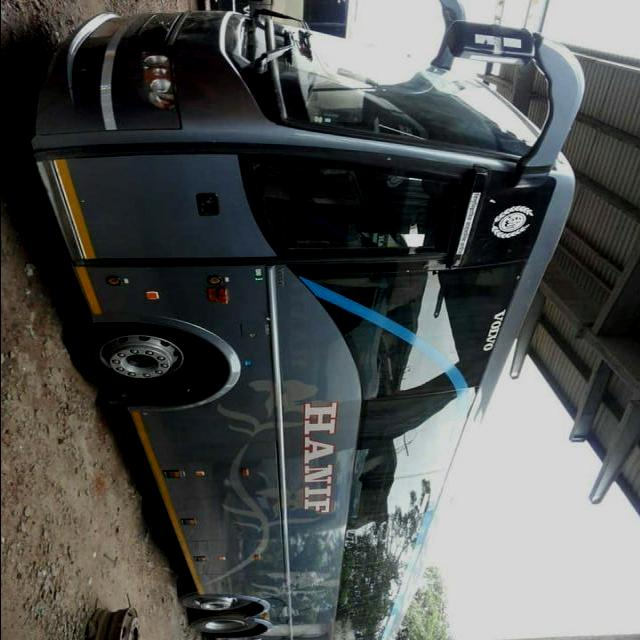bus: (26, 1, 589, 640)
